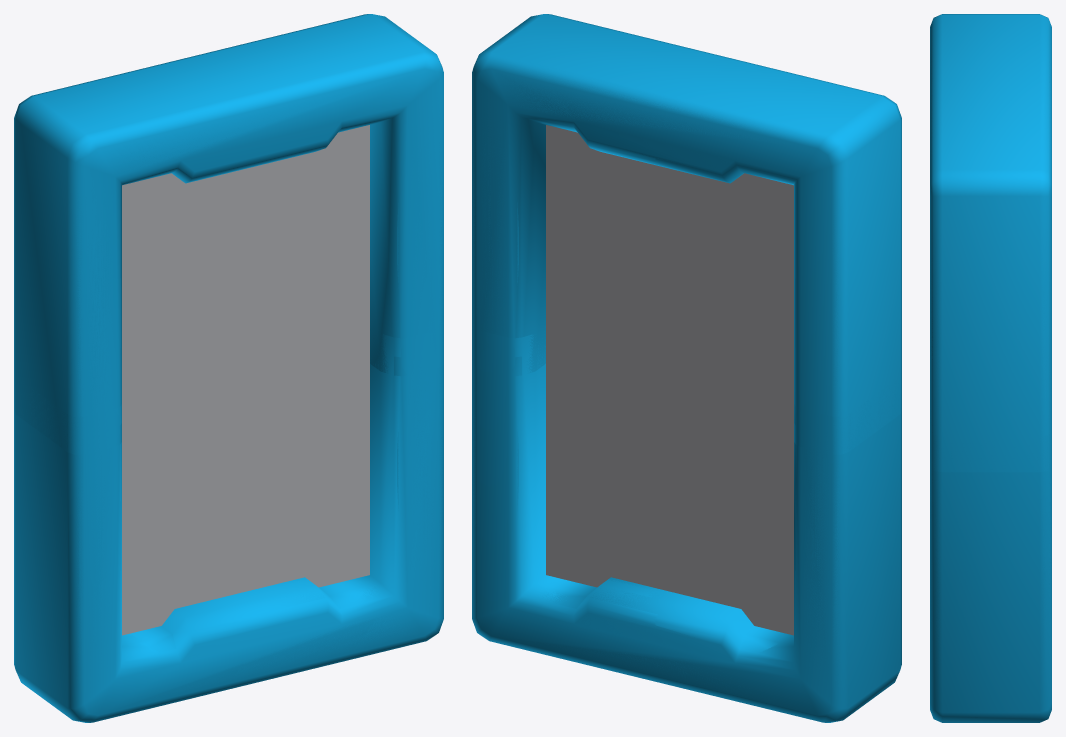
Rendered from window_tall.gltf.
3 renders of one model, left to right at view 1: azimuth 30°, elevation 25°; view 2: azimuth 150°, elevation 25°; view 3: azimuth 270°, elevation 25°, orthographic. The views are drawn at different scales.
Visible parts, largest first — view 1: window_tall; view 2: window_tall; view 3: window_tall.
Boxes of the visible parts, <box> form: window_tall: <box>14,14,443,722</box>; window_tall: <box>472,14,901,722</box>; window_tall: <box>930,14,1051,722</box>.
Size of the model in its own units: 2 by 3 by 0.6.
